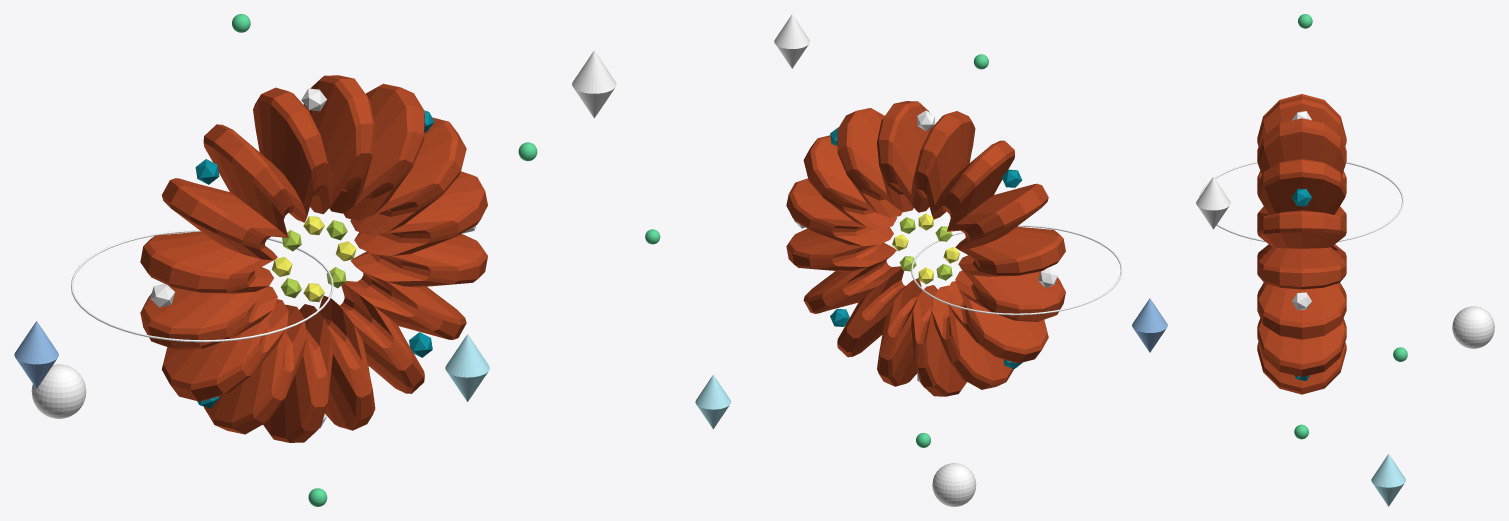
3 views of the same model, side by side, from view 1: azimuth 30°, elevation 25°; view 2: azimuth 150°, elevation 25°; view 3: azimuth 270°, elevation 25° (orthographic). The views are drawn at different scales.
Visible parts, largest first — view 1: Torus.002, Sphere, Cone.001, Cone.002, Cone, Circle; view 2: Torus.002, Sphere, Cone, Cone.002, Cone.001, Circle; view 3: Torus.002, Sphere, Cone.001, Cone.002, Circle.
Boxes of the visible parts, x1,y1,x2,y2 form: Torus.002: (140,75,487,442); Sphere: (31,364,86,418); Cone.001: (572,50,616,118); Cone.002: (445,334,489,401); Cone: (14,321,58,388); Circle: (71,230,333,342); Torus.002: (786,101,1065,396); Sphere: (932,463,976,506); Cone: (1132,298,1167,352); Cone.002: (695,374,731,429); Cone.001: (774,14,809,68); Circle: (911,225,1122,315); Torus.002: (1257,94,1346,394); Sphere: (1452,306,1494,348); Cone.001: (1196,176,1230,229); Cone.002: (1371,454,1405,506); Circle: (1199,161,1403,241).
Size of the model in its own units: 12.29 by 10.24 by 7.01.
